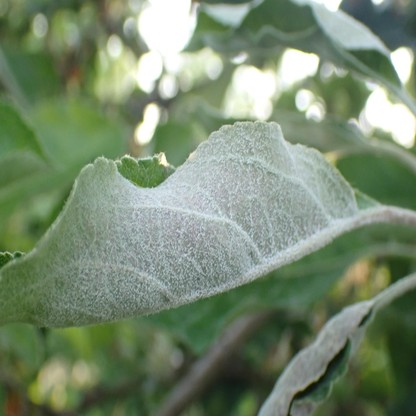powder: (0, 121, 358, 326), (257, 301, 374, 416)
